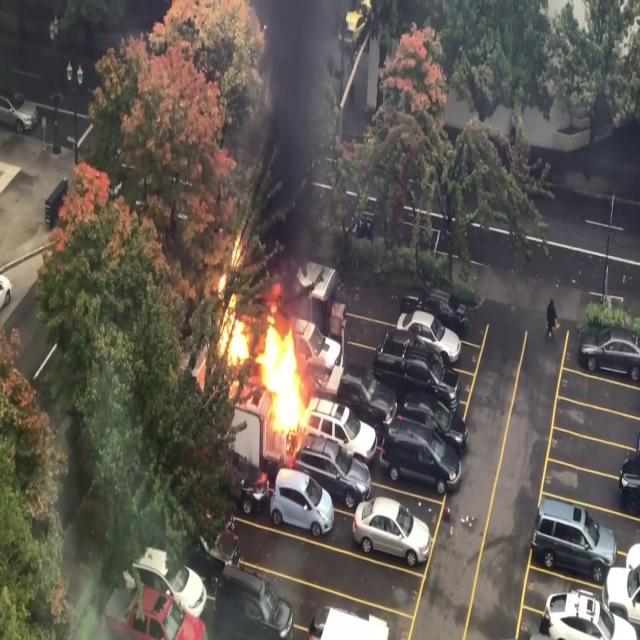Fire: (209, 248, 325, 444)
Smoke: (233, 2, 354, 272)
